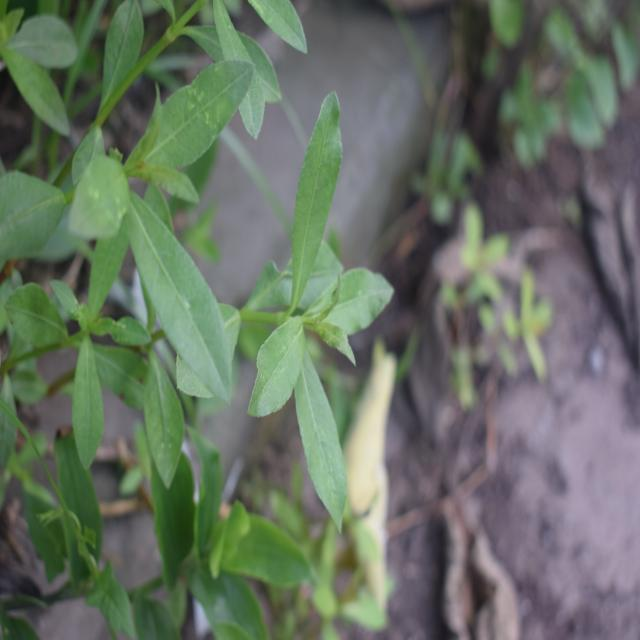Alligatorweed: (230, 82, 400, 500), (77, 69, 260, 410)
